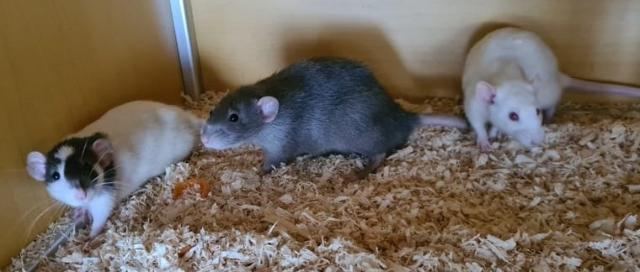rat: (194, 48, 428, 189), (15, 88, 196, 244), (448, 18, 582, 168)
